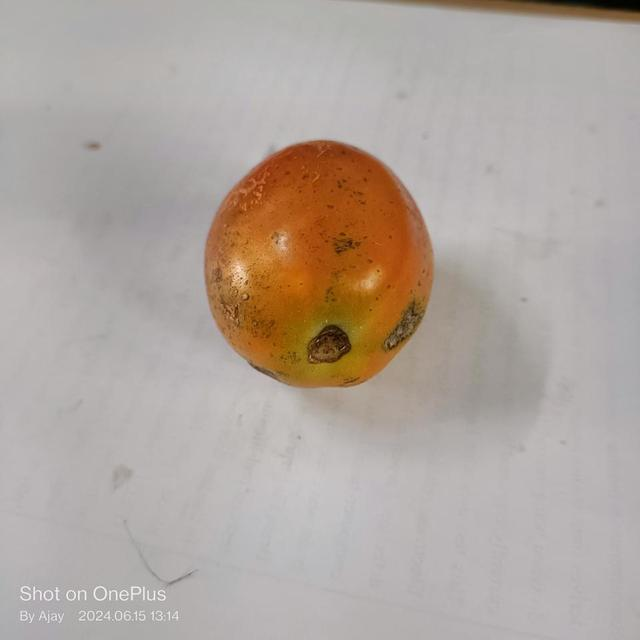Bacterial Spot Fruit: (27, 21, 267, 216)
